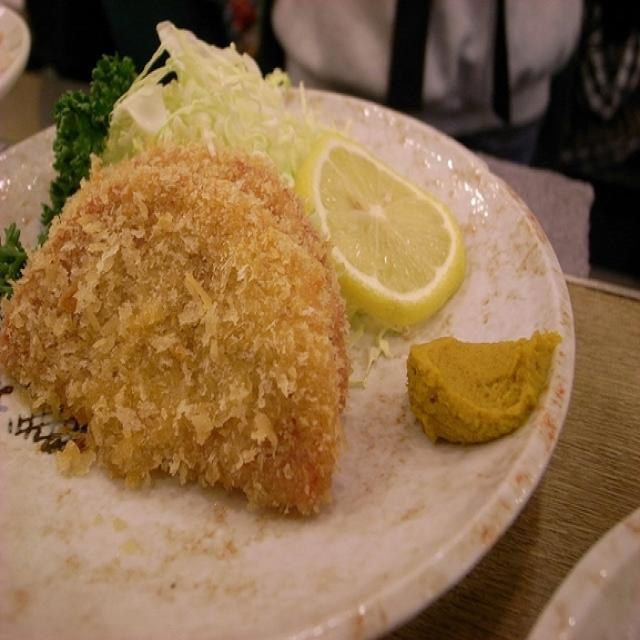炸货点心: (6, 104, 373, 562)
